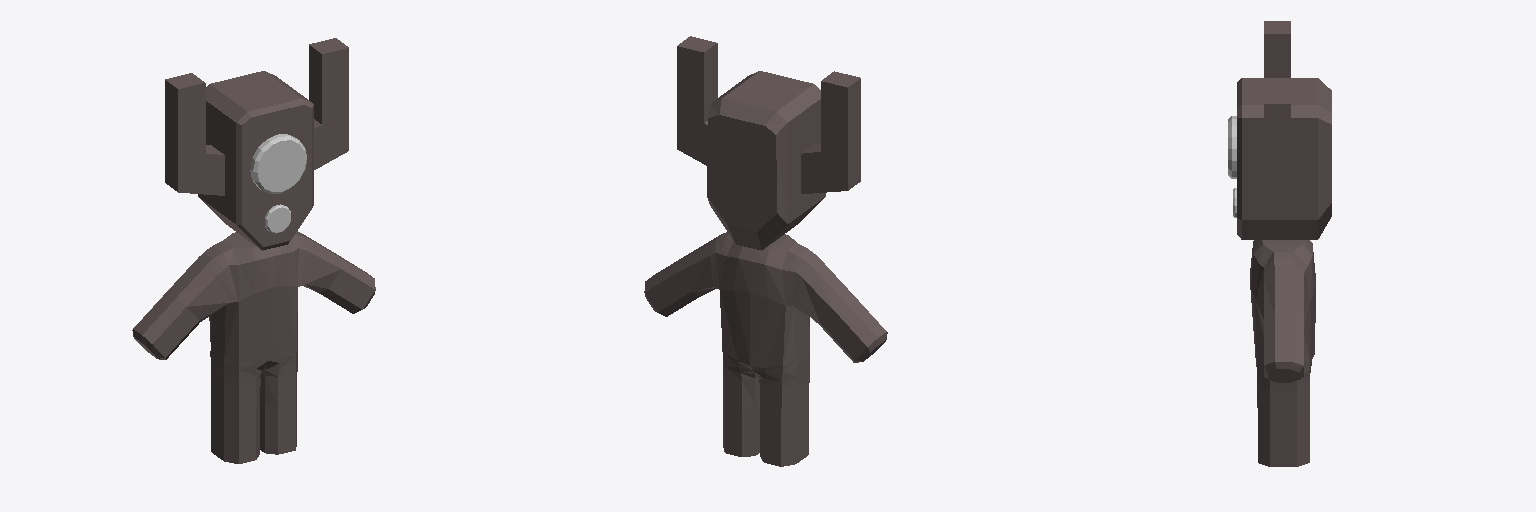
The model's file is Golem.obj.
3 renders of one model, left to right at view 1: azimuth 30°, elevation 25°; view 2: azimuth 150°, elevation 25°; view 3: azimuth 270°, elevation 25°, orthographic.
Parts seen in each view (by area): view 1: Golem_GPV_Cylinder.003; view 2: Golem_GPV_Cylinder.003; view 3: Golem_GPV_Cylinder.003.
Boxes of the visible parts, <box> form: Golem_GPV_Cylinder.003: <box>132,38,375,463</box>; Golem_GPV_Cylinder.003: <box>644,36,887,466</box>; Golem_GPV_Cylinder.003: <box>1228,21,1331,466</box>.
Bounding box in the file's own units: 0.5225 × 0.8269 × 0.2002.